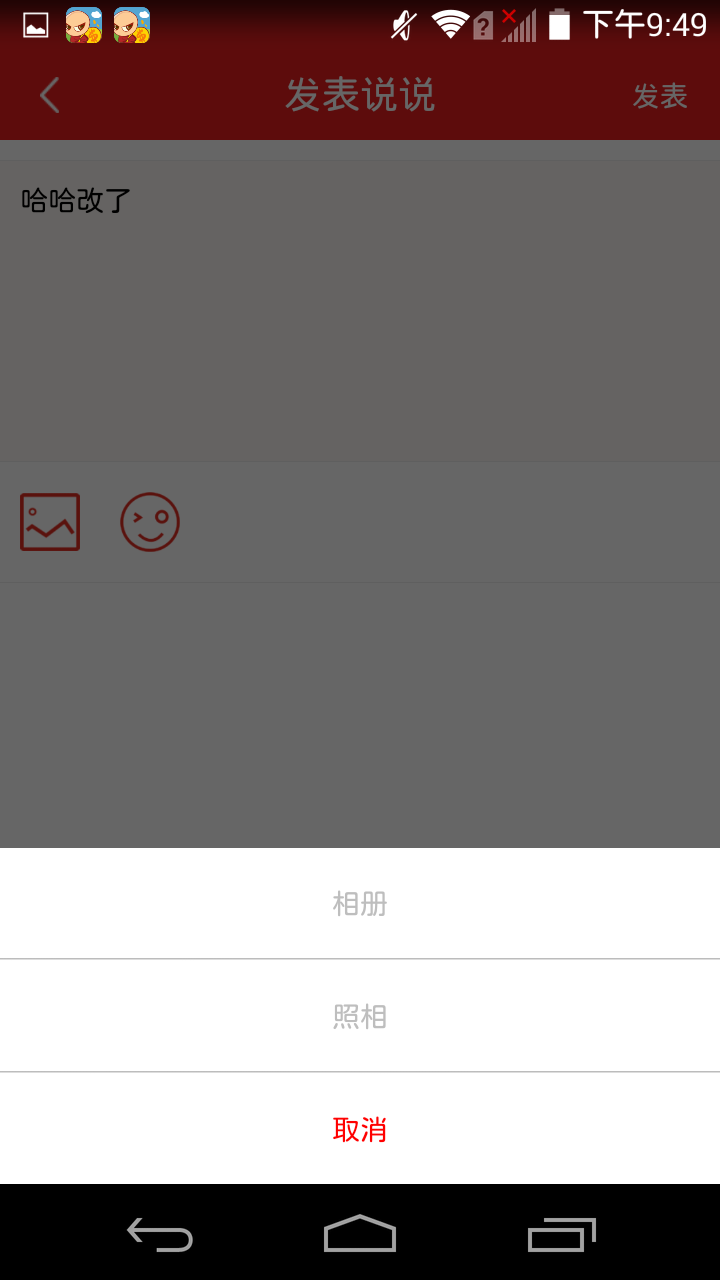checkboxs: (10, 852, 720, 1178)
